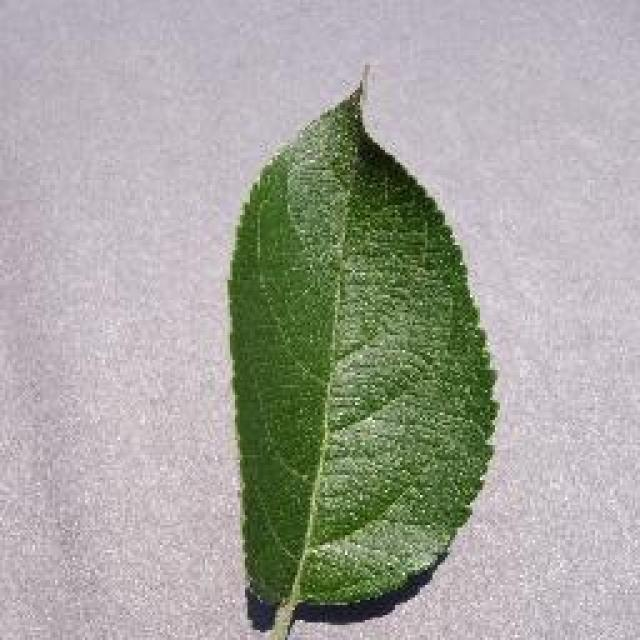apple healthy: (222, 60, 500, 638)
